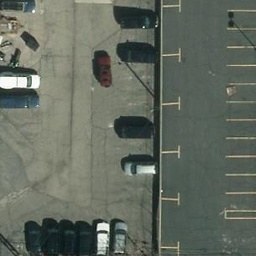car: (92, 51, 115, 87), (117, 10, 157, 30), (1, 70, 41, 89), (1, 92, 41, 110), (122, 46, 159, 64), (118, 123, 157, 140), (25, 223, 43, 256), (42, 223, 60, 256), (59, 223, 77, 256), (77, 222, 93, 256), (95, 222, 111, 256), (111, 222, 127, 256), (1, 1, 37, 14), (123, 163, 159, 176)
